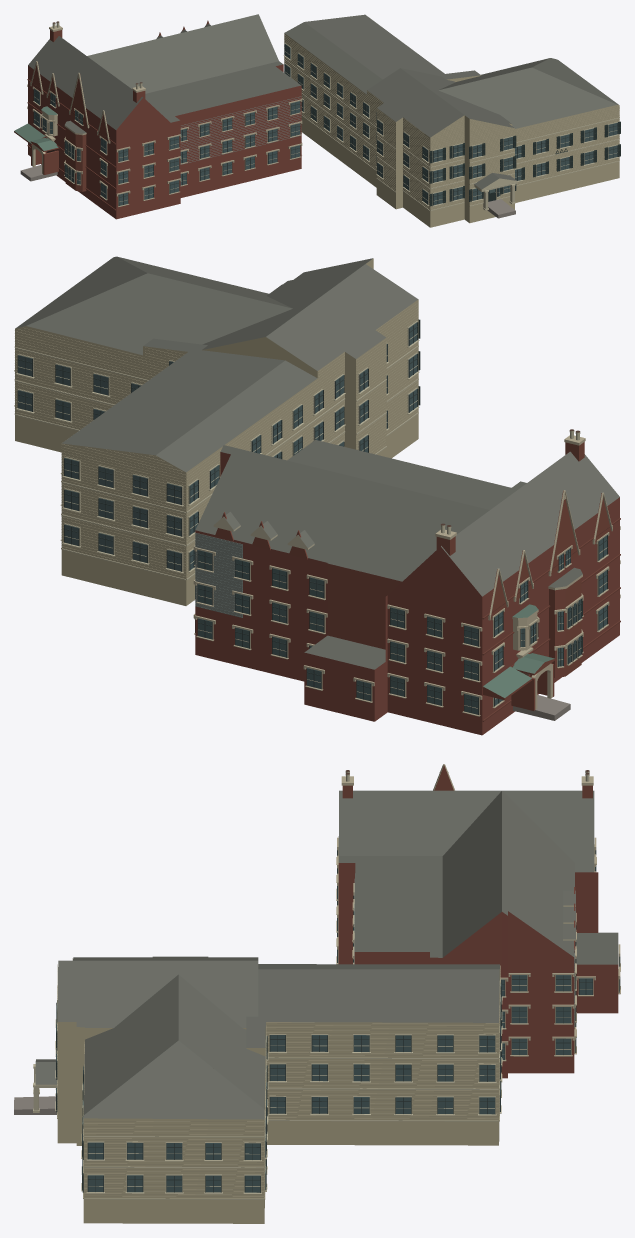
The model's file is site.glb.
3 renders of one model, top to bottom at view 1: azimuth 30°, elevation 25°; view 2: azimuth 150°, elevation 25°; view 3: azimuth 270°, elevation 25°, orthographic. The views are drawn at different scales.
Visible parts, largest first — view 1: roof-c85e8e54, state-1841241, chapter-house-approaches; view 2: state-1841241, roof-c85e8e54, chapter-house-approaches; view 3: roof-c85e8e54, state-1841241, chapter-house-approaches.
Boxes of the visible parts, left/top/right/bottom form: roof-c85e8e54: left=283, top=14, right=620, bottom=227; state-1841241: left=14, top=14, right=302, bottom=219; chapter-house-approaches: left=20, top=164, right=515, bottom=218; state-1841241: left=193, top=429, right=620, bottom=735; roof-c85e8e54: left=14, top=256, right=420, bottom=605; chapter-house-approaches: left=513, top=694, right=570, bottom=720; roof-c85e8e54: left=33, top=956, right=502, bottom=1223; state-1841241: left=336, top=764, right=620, bottom=1078; chapter-house-approaches: left=14, top=1096, right=56, bottom=1114.
Size of the model in its own units: 57.37 by 15.74 by 47.06.
